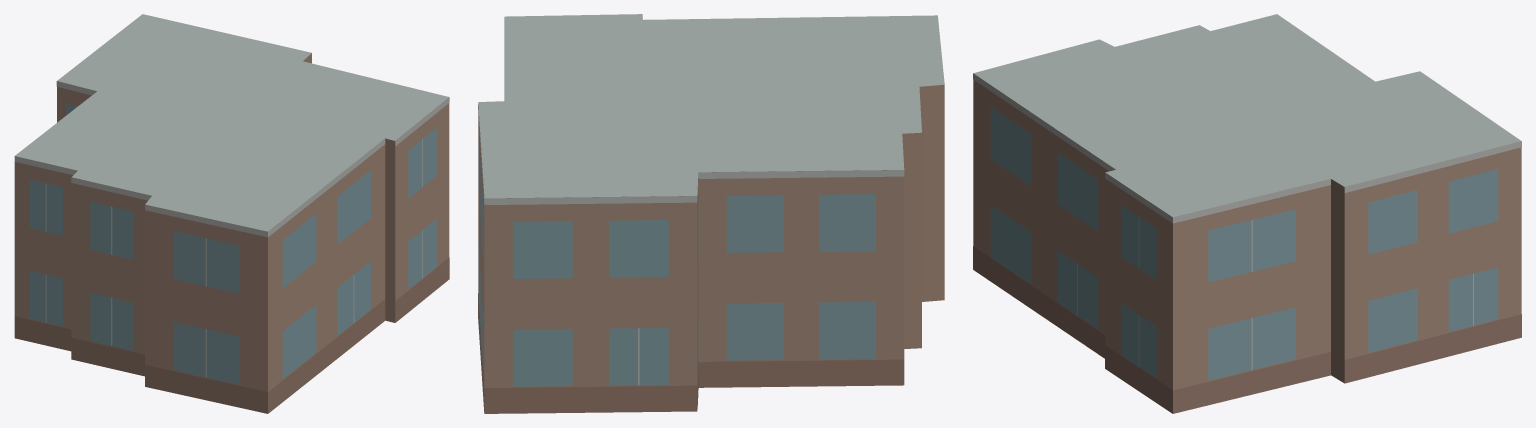
The model's file is survey-upis-32625341.glb.
3 views of the same model, side by side, from view 1: azimuth 30°, elevation 25°; view 2: azimuth 150°, elevation 25°; view 3: azimuth 270°, elevation 25° (orthographic). The views are drawn at different scales.
Parts seen in each view (by area): view 1: survey-upis-32625341.tmp; view 2: survey-upis-32625341.tmp; view 3: survey-upis-32625341.tmp.
Part boxes in pixels (<box>): survey-upis-32625341.tmp: <box>14,14,449,413</box>; survey-upis-32625341.tmp: <box>478,14,944,413</box>; survey-upis-32625341.tmp: <box>973,14,1521,413</box>.
Size of the model in its own units: 17.33 by 7.8 by 19.75.
